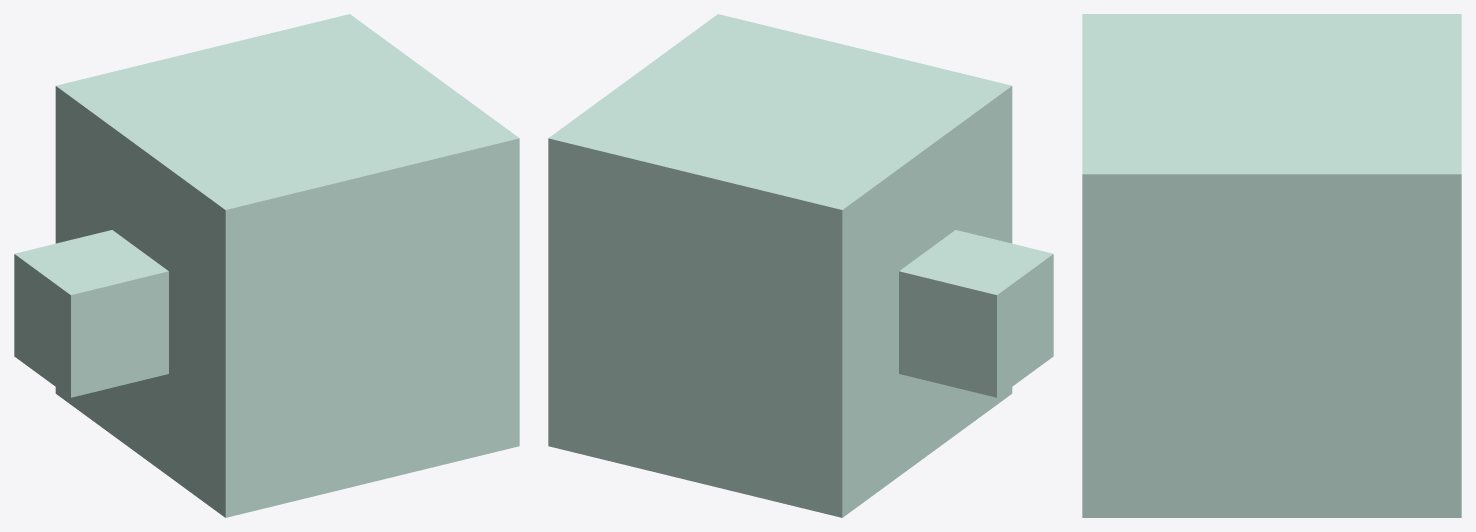
The picture shows the model from 3 angles, left to right: view 1: azimuth 30°, elevation 25°; view 2: azimuth 150°, elevation 25°; view 3: azimuth 270°, elevation 25°; orthographic projection. The views are drawn at different scales.
Visible parts, largest first — view 1: Renderer Node; view 2: Renderer Node; view 3: Renderer Node.
Boxes of the visible parts, <box> form: Renderer Node: <box>14,14,519,517</box>; Renderer Node: <box>548,14,1053,517</box>; Renderer Node: <box>1082,14,1461,517</box>.
Bounding box in the file's own units: 1 × 0.75 × 0.75.
